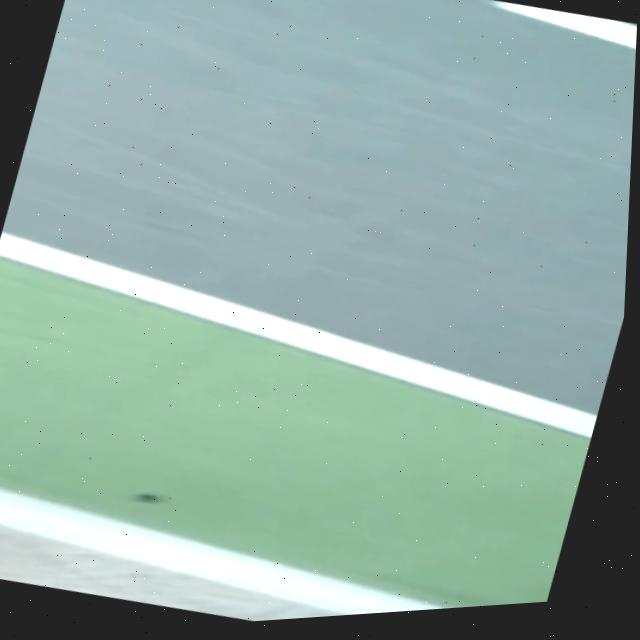center: (494, 0, 637, 48)
right: (0, 230, 597, 435)
